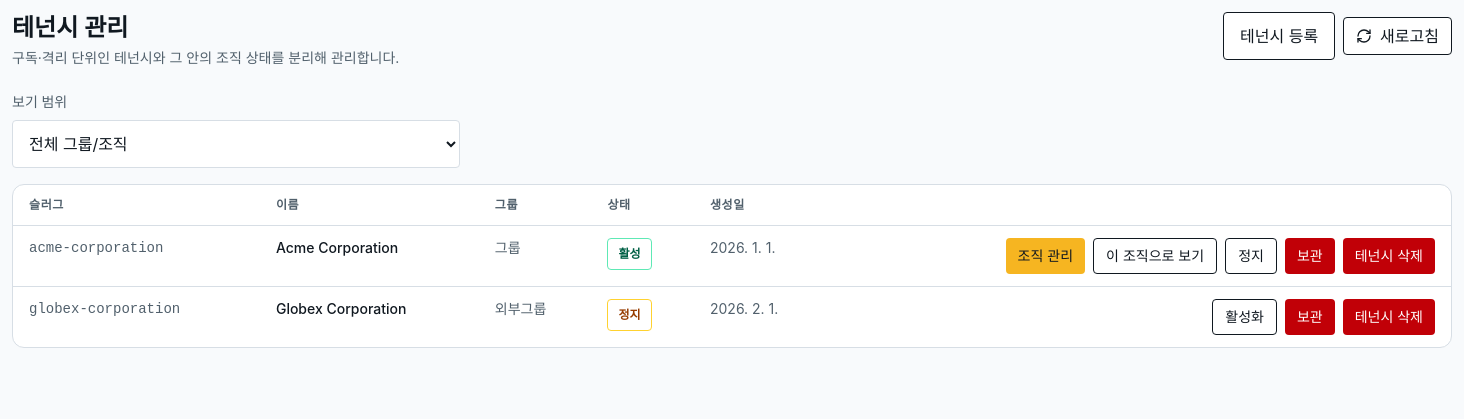
Scenario: Platform tenant list › keeps the platform page authoritative when tenant-context adoption is rejected
This screenshot has width=1464, height=419.
Click the button "조직 관리": x=1045, y=256 [1006,238,1085,274]
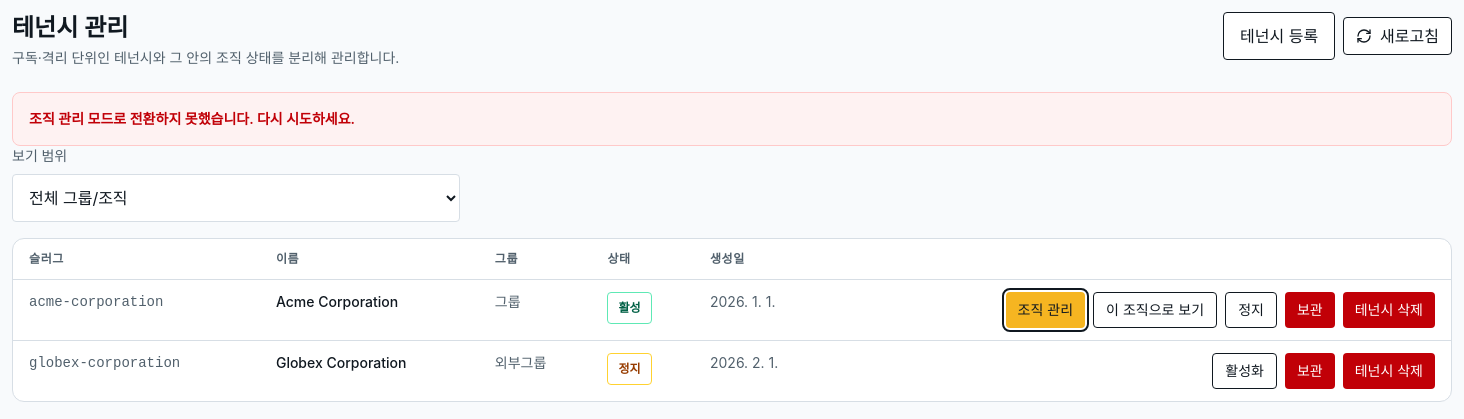
Check: the text "Acme Corporation" is shown, box [260,280,479,340]
Check: the text "조직 관리 모드로 전환하지 못했습니다. 다시 시도하세요." is shown, box [29,110,355,127]
